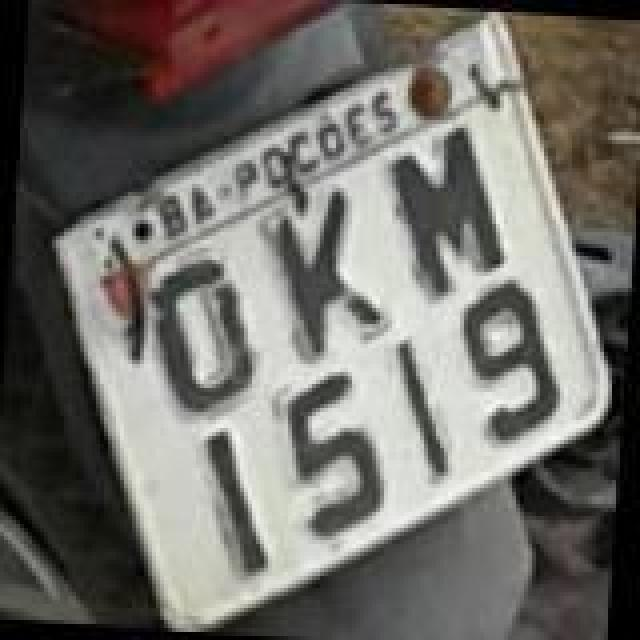1: (184, 398, 280, 594), (196, 420, 284, 580), (382, 332, 466, 484)
5: (274, 366, 398, 546)
9: (452, 276, 572, 444)
K: (268, 184, 404, 368)
M: (380, 120, 516, 304)
O: (140, 246, 276, 426)
